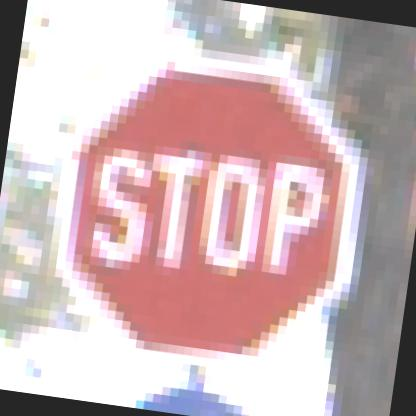stop: (26, 17, 395, 384)
